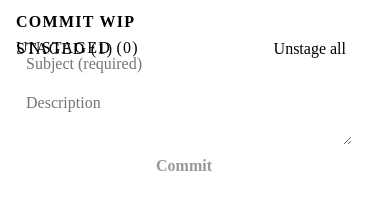
Test: CommitComposer › enables the Commit button when subject is non-empty AND something is staged
Type "My commit" into the field with placeholder "Subject (required)" at (164, 64), box top-left (16, 49), bottom-right (312, 79)
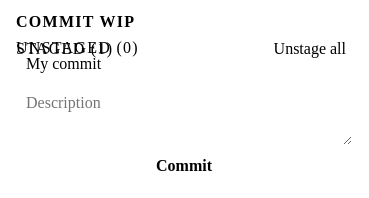
Check: the button "Commit" is enabled, box top-left (16, 151), bottom-right (352, 181)
